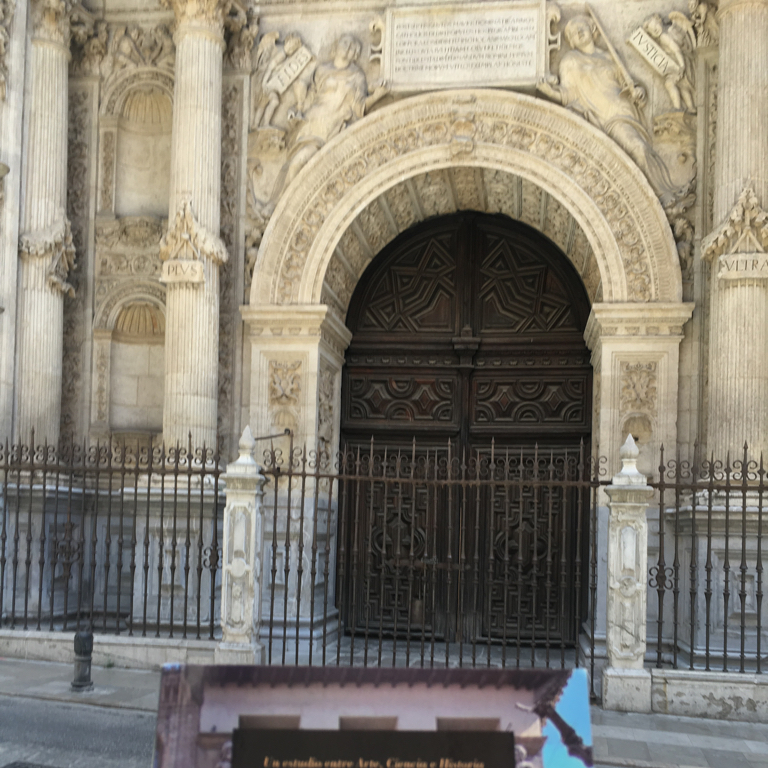arco-medio-punto: (306, 153, 619, 361)
